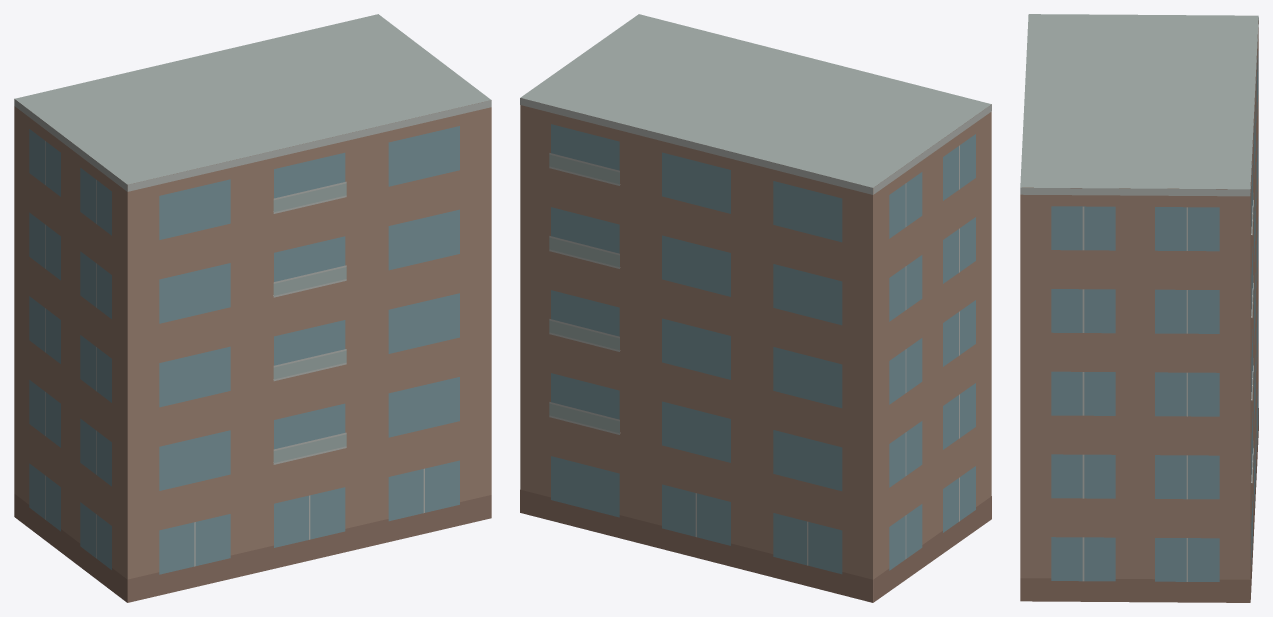
File: survey-upis-32833005.glb
3 views of the same model, side by side, from view 1: azimuth 30°, elevation 25°; view 2: azimuth 150°, elevation 25°; view 3: azimuth 270°, elevation 25° (orthographic).
Visible parts, largest first — view 1: survey-upis-32833005.tmp; view 2: survey-upis-32833005.tmp; view 3: survey-upis-32833005.tmp.
Part boxes in pixels (x1,y1,x2,y2): survey-upis-32833005.tmp: (14,14,491,602); survey-upis-32833005.tmp: (520,14,991,602); survey-upis-32833005.tmp: (1020,14,1258,602).
Size of the model in its own units: 12.91 by 14.2 by 7.43.
